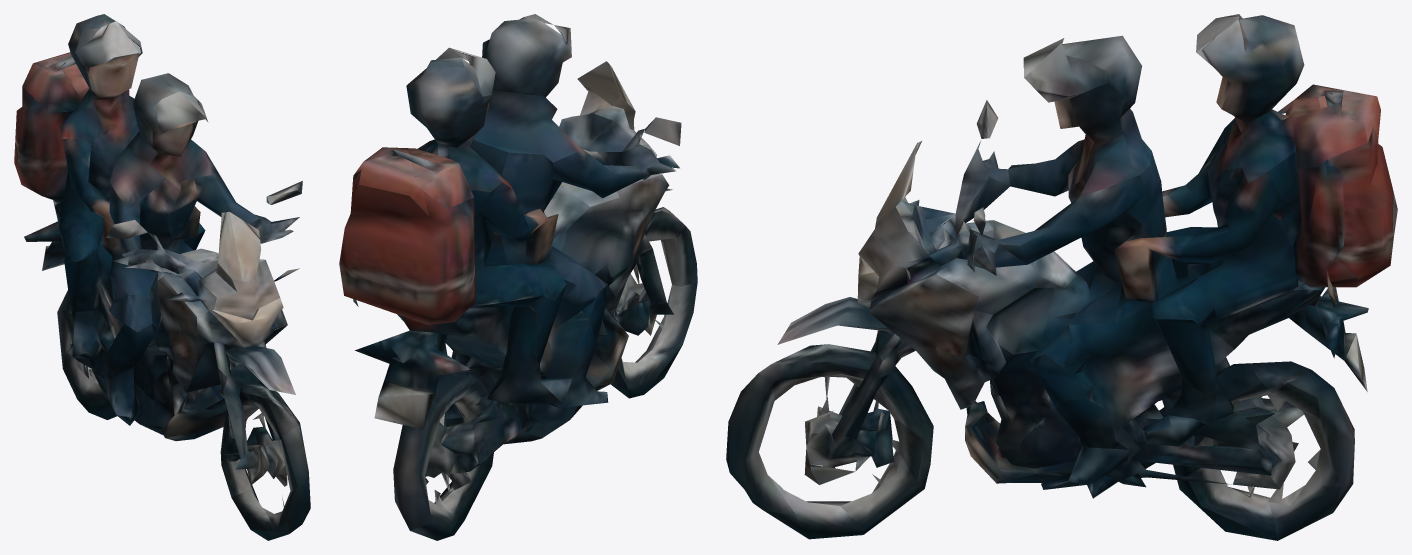
Rendered from motor_dokkes_2_lod2.glb.
3 renders of one model, left to right at view 1: azimuth 30°, elevation 25°; view 2: azimuth 150°, elevation 25°; view 3: azimuth 270°, elevation 25°, orthographic. The views are drawn at different scales.
Parts seen in each view (by area): view 1: tripo_node_27a9529c; view 2: tripo_node_27a9529c; view 3: tripo_node_27a9529c.
Part boxes in pixels (<box>): tripo_node_27a9529c: <box>14,14,310,540</box>; tripo_node_27a9529c: <box>339,14,697,540</box>; tripo_node_27a9529c: <box>726,14,1397,540</box>.
Bounding box in the file's own units: 43.57 × 85.41 × 99.87.
Materials: 1 (1 with a texture image).
